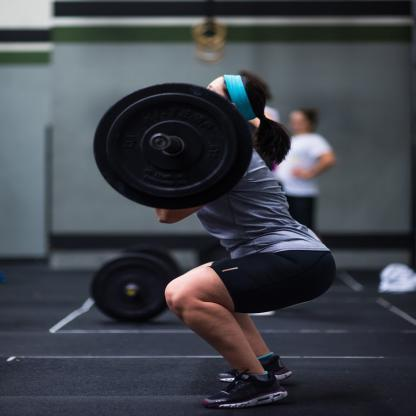barbell: (92, 83, 253, 209), (90, 246, 178, 326)
